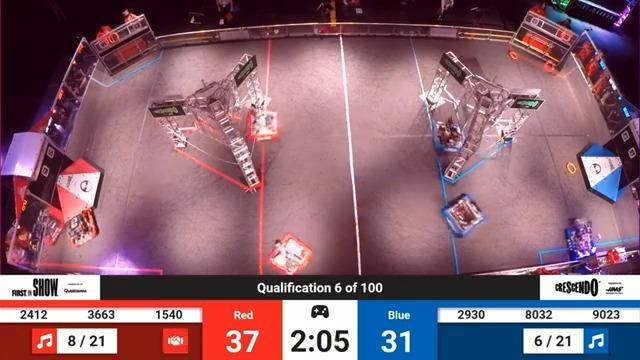robot: (267, 224, 314, 281), (440, 189, 491, 241), (558, 216, 608, 265), (248, 101, 294, 146), (429, 116, 471, 158), (61, 206, 107, 242)
